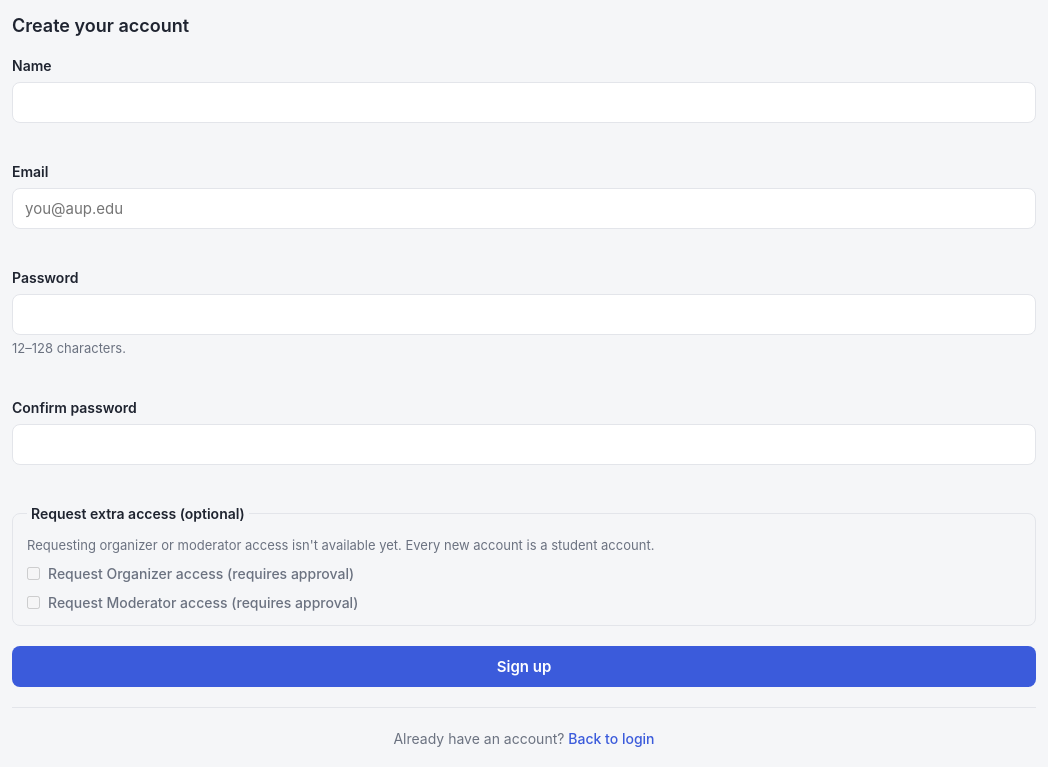
Test: Signup validation (QB-167) › maps backend validation errors to the matching fields
Type "  Ada  " into the field labelled "Name". click: (524, 102)
box: [12,82,1036,123]
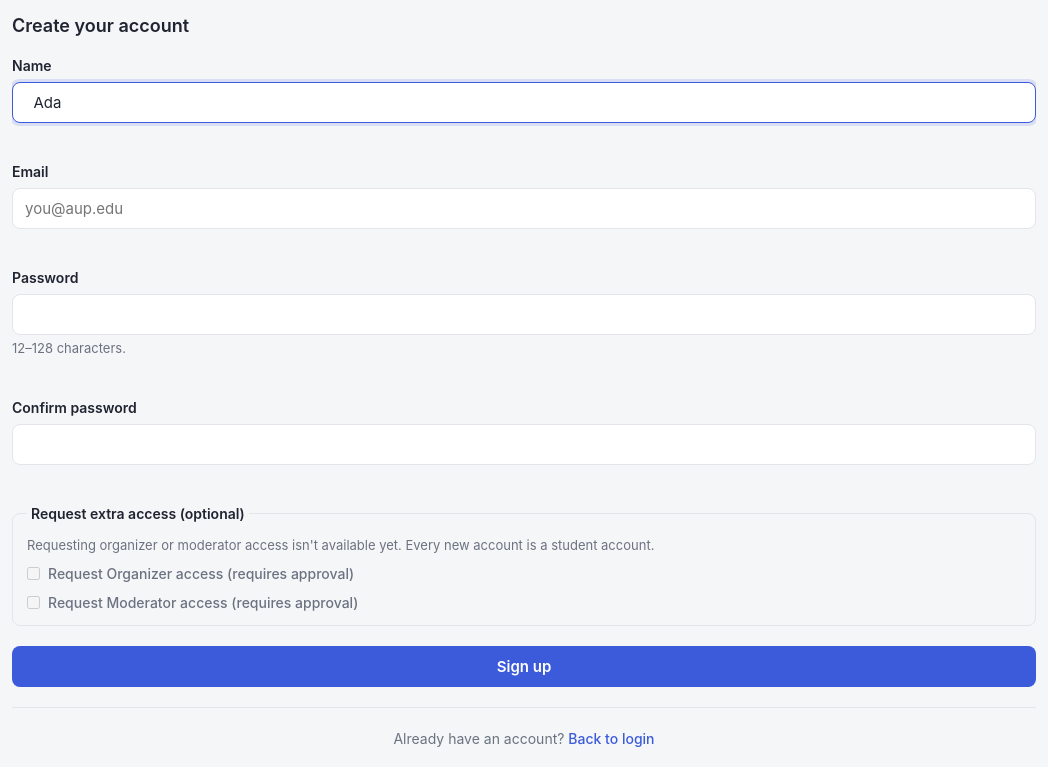
Type " ada@aup.edu " into the field labelled "Email". click: (524, 208)
box: [12,188,1036,229]
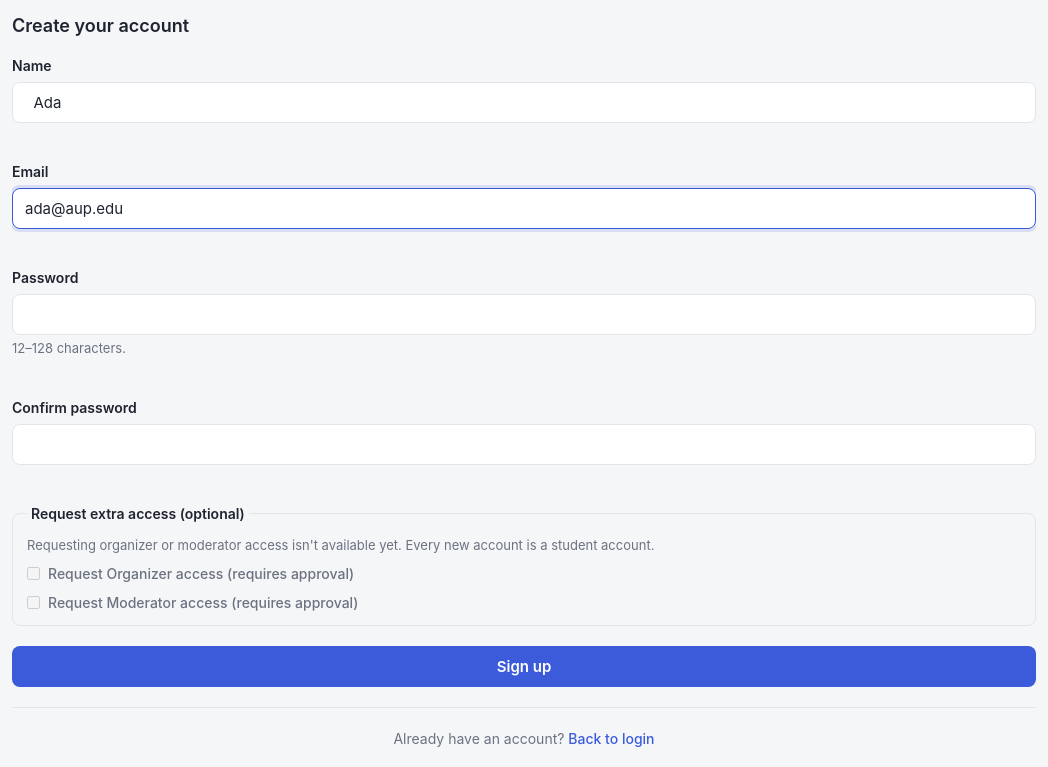
Type "  correct horse  " into the password field labelled "Password". click: (524, 314)
box: [12,294,1036,335]
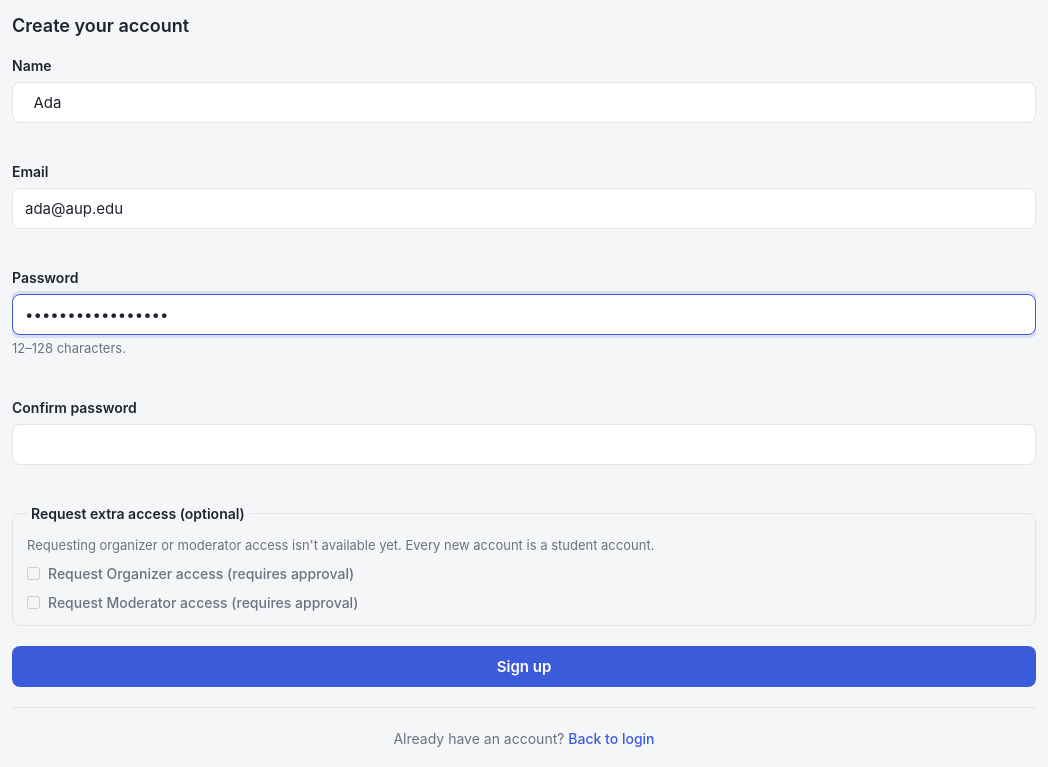
Type "  correct horse  " into the password field labelled "Confirm password". click: (524, 444)
box: [12,424,1036,464]
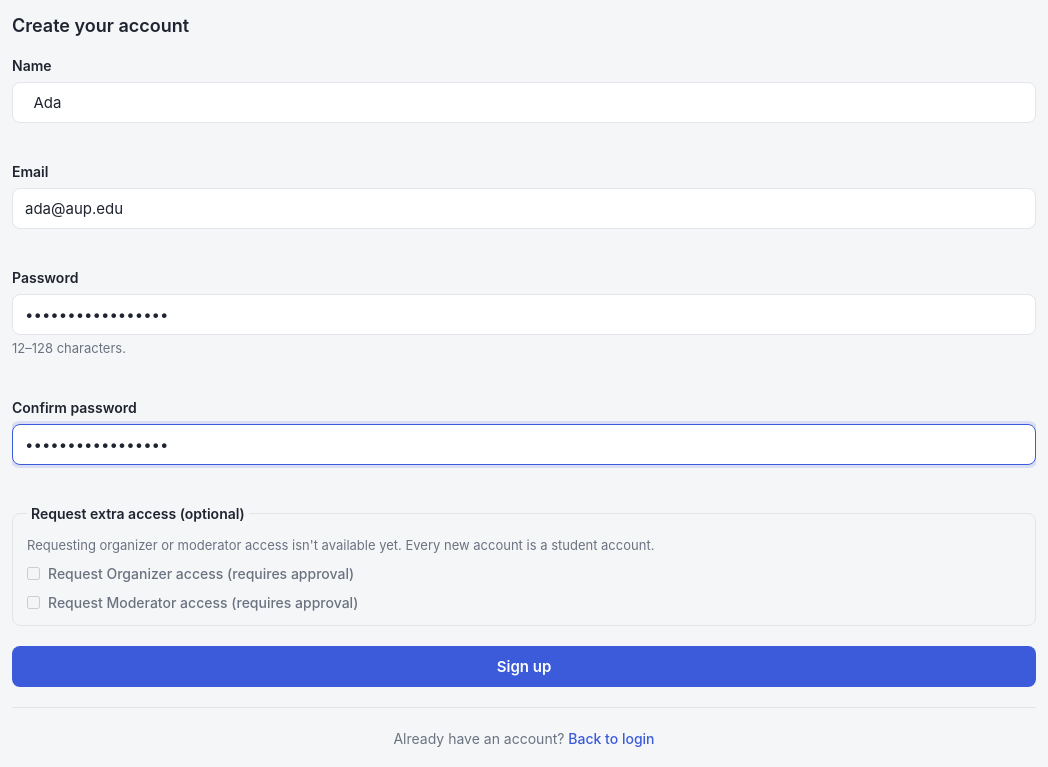
Click the button "Sign up". click: click(524, 666)
box: [12,646,1036,687]
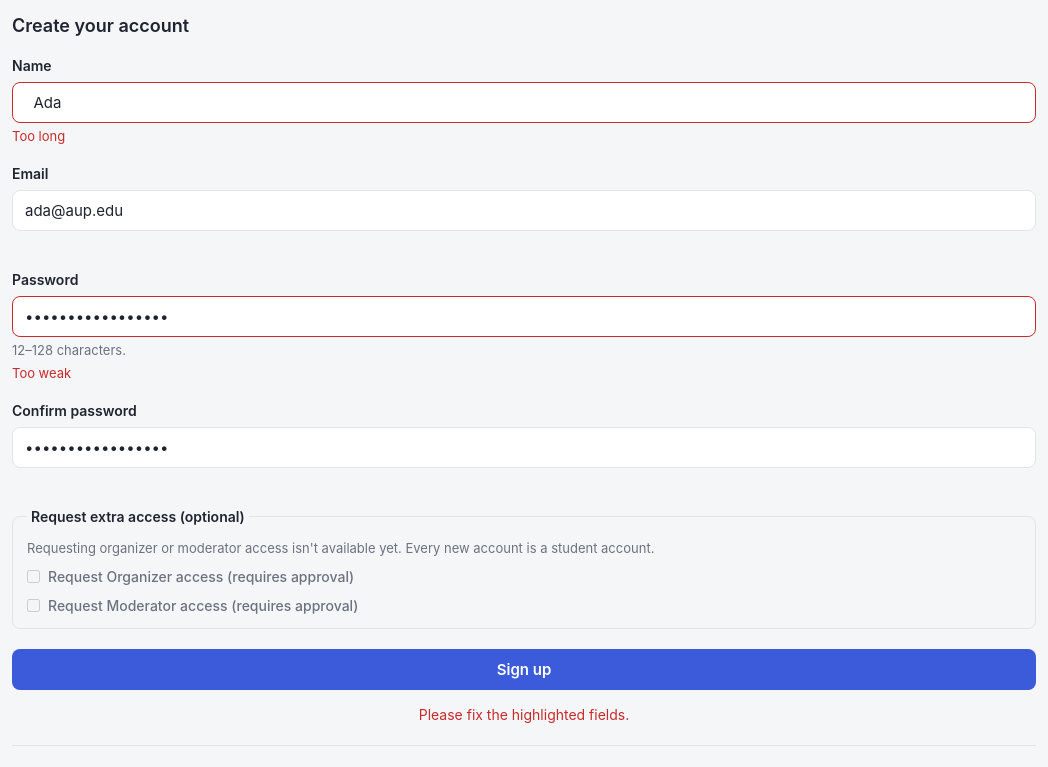
Result: the text "Too long" is shown at [12,128,65,144]
Result: the text "Too weak" is shown at [12,365,71,381]
